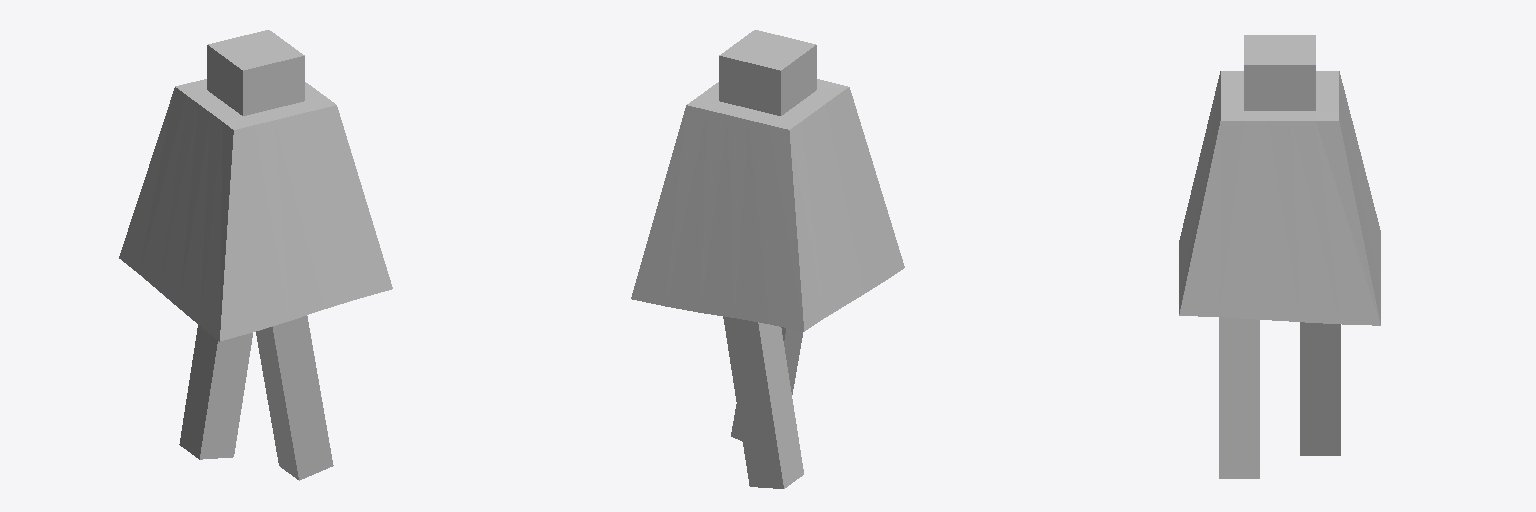
The model's file is essai_000021.obj.
The picture shows the model from 3 angles: view 1: azimuth 30°, elevation 25°; view 2: azimuth 150°, elevation 25°; view 3: azimuth 270°, elevation 25°; orthographic projection.
Parts seen in each view (by area): view 1: Cube; view 2: Cube; view 3: Cube.
Part boxes in pixels (x1,y1,x2,y2): Cube: (119, 30, 392, 480); Cube: (631, 30, 904, 488); Cube: (1179, 35, 1380, 478).
Size of the model in its own units: 1.99 by 4.51 by 2.